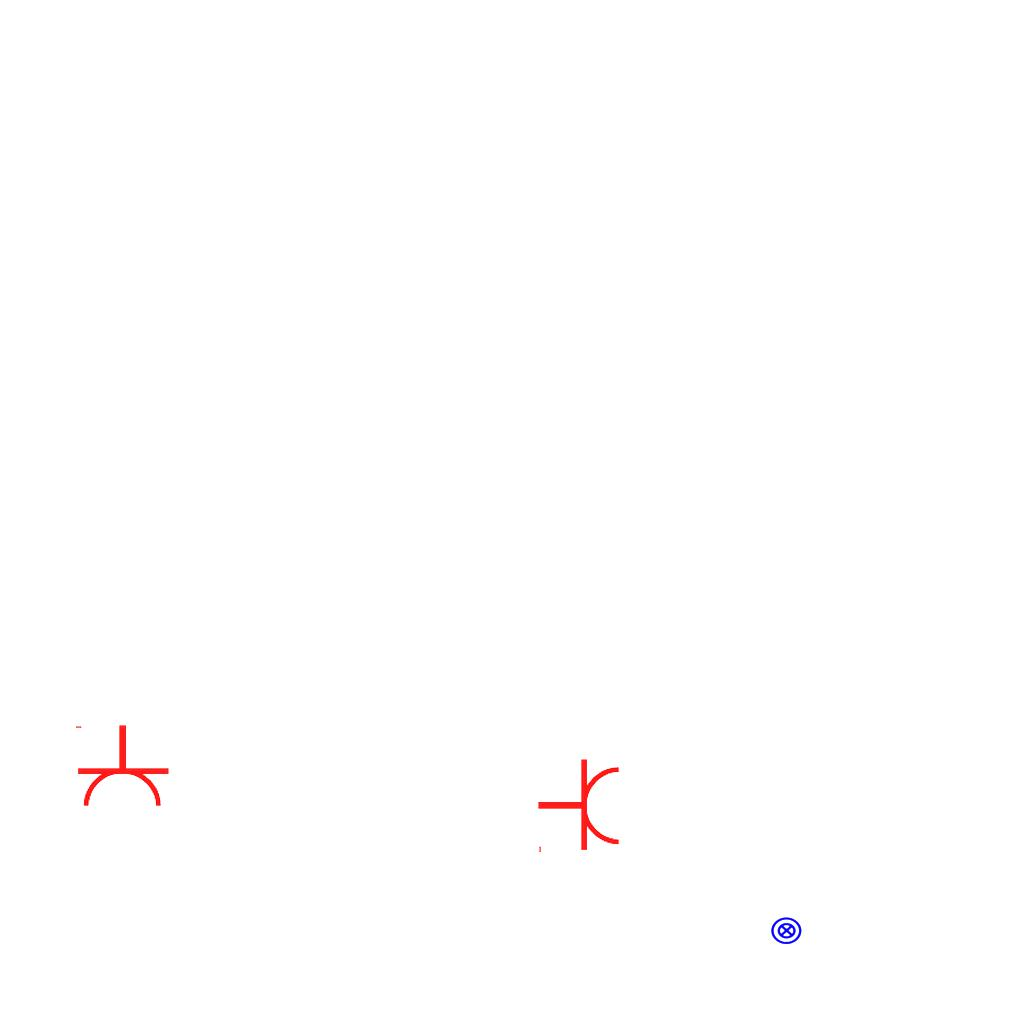Schukosteckdose_einfach: (536, 757, 623, 857), (71, 723, 171, 810)
Taster_beleuchtet: (770, 914, 803, 947)
